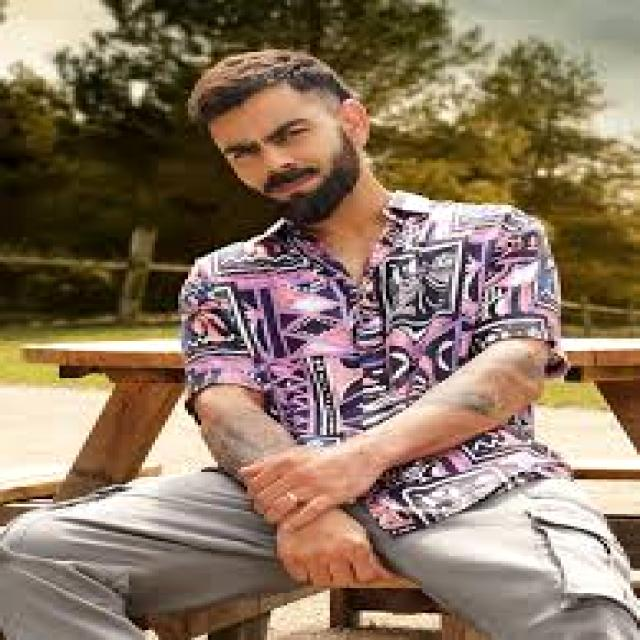face: (193, 44, 374, 229)
lower-wear: (0, 464, 640, 640)
top-wear: (178, 190, 565, 530)
